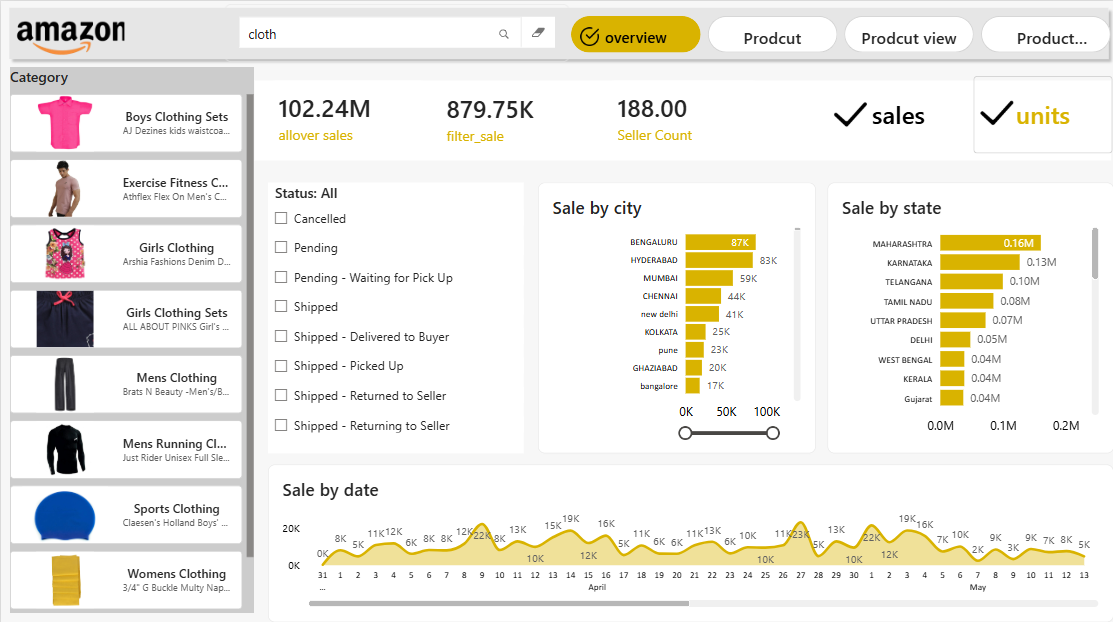

What the dashboard file says about the page in this screenshot:
{"tool":"powerbi","page":{"name":"overview","canvas":[1280,720],"ordinal":0},"visuals":[{"type":"shape","box":[1.6,0,1278.9,74.5],"z":0},{"type":"shape","box":[291.1,90.7,984.6,92.3],"z":1000},{"type":"advancedSlicerVisual","title":"Category","fields":{"Values":["amazon-fashion - YT.category"],"Label":["Min(amazon-fashion - YT.product_name)"]},"box":[11.1,75.6,280,626.7],"z":2000},{"type":"cardVisual","fields":{"Data":["Amazon.tick2"]},"box":[1072.1,55.7,146.3,97],"z":3000},{"type":"cardVisual","fields":{"Data":["Amazon.tick"]},"box":[903.5,57.3,147.9,97],"z":4000},{"type":"image","box":[6,2,138,74],"z":5000},{"type":"textFilter25A4896A83E0487089E2B90C9AE57C8A","fields":{"field":["amazon-fashion - YT.category"]},"box":[257.6,3,397,66.7],"z":7000},{"type":"slicer","fields":{"Values":["Amazon.Status"]},"box":[307.7,208.4,294,311.6],"z":8000},{"type":"cardVisual","fields":{"Data":["sales_option.filter_sale"]},"box":[500.2,97.1,150.6,77.7],"z":9000},{"type":"clusteredBarChart","title":"Sale by city","fields":{"Category":["Amazon.ship-city"],"Y":["sales_option.filter_sale"]},"box":[617.3,208.4,319.4,311.6],"z":10000},{"type":"clusteredBarChart","title":"Sale by state","fields":{"Category":["Amazon.ship-state"],"Y":["sales_option.filter_sale"]},"box":[950.3,208.4,329.1,311.6],"z":11000},{"type":"areaChart","title":"Sale by date","fields":{"Category":["Amazon.Date.Variation.Date Hierarchy.Month","Amazon.Date.Variation.Date Hierarchy.Day"],"Y":["sales_option.filter_sale"]},"box":[307.7,533.6,971.7,181.1],"z":12000},{"type":"cardVisual","fields":{"Data":["Amazon.allover sales"]},"box":[307,90.7,184.5,85.9],"z":13000},{"type":"pageNavigator","box":[654.8,17.3,620.1,42.4],"z":13500},{"type":"advancedSlicerVisual","fields":{"Values":["sales_option.name"]},"box":[951.2,85.9,327.7,89.1],"z":14000},{"type":"cardVisual","fields":{"Data":["Amazon.Seller Count"]},"box":[696.7,90.7,176.6,85.9],"z":15000},{"type":"image","box":[654.8,27,42.4,27],"z":15500}]}

Visuals, with their boxes in screenshot pixels (x1, y1, x2, y2), scaled from the page's 1280x720 canvas onto the 1113x622 screenshot:
shape: locate(1, 0, 1112, 64)
shape: locate(253, 78, 1109, 158)
"Category" advancedSlicerVisual: locate(10, 65, 253, 607)
cardVisual - Amazon.tick2: locate(932, 48, 1059, 132)
cardVisual - Amazon.tick: locate(786, 50, 914, 133)
image: locate(5, 2, 125, 66)
textFilter25A4896A83E0487089E2B90C9AE57C8A - amazon-fashion - YT.category: locate(224, 3, 569, 60)
slicer - Amazon.Status: locate(268, 180, 523, 449)
cardVisual - sales_option.filter_sale: locate(435, 84, 566, 151)
"Sale by city" clusteredBarChart: locate(537, 180, 814, 449)
"Sale by state" clusteredBarChart: locate(826, 180, 1112, 449)
"Sale by date" areaChart: locate(268, 461, 1112, 617)
cardVisual - Amazon.allover sales: locate(267, 78, 427, 153)
pageNavigator: locate(569, 15, 1109, 52)
advancedSlicerVisual - sales_option.name: locate(827, 74, 1112, 151)
cardVisual - Amazon.Seller Count: locate(606, 78, 759, 153)
image: locate(569, 23, 606, 47)
